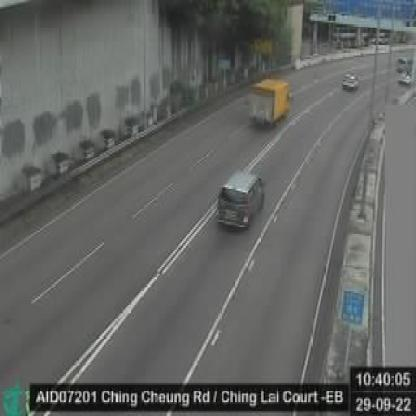Car: (213, 168, 269, 234), (337, 68, 360, 90)
Truck: (247, 76, 293, 130)
